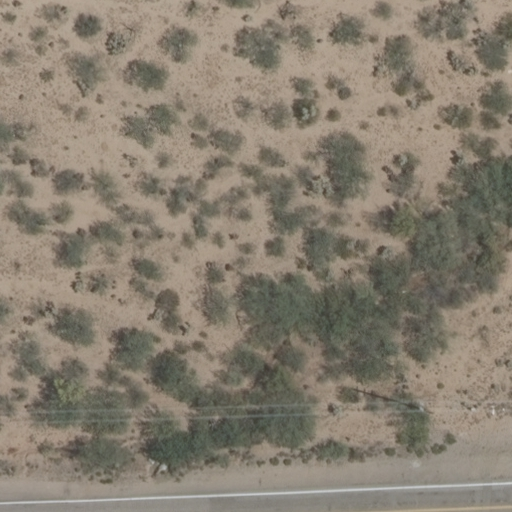DT: (357, 384, 435, 415)
